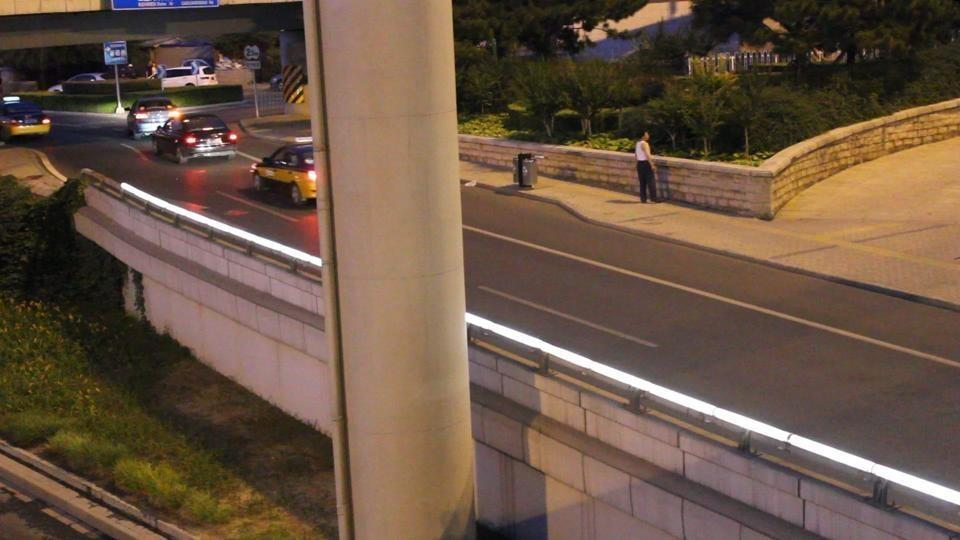car: (152, 111, 239, 164), (250, 141, 318, 207), (126, 94, 183, 139), (0, 96, 52, 143), (157, 62, 217, 89), (58, 73, 110, 88)
